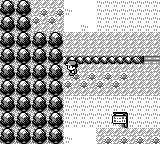leer: (112, 112, 128, 127)
main: (65, 61, 78, 75)
no-caminable: (0, 3, 63, 142)
salto: (65, 56, 141, 64)
